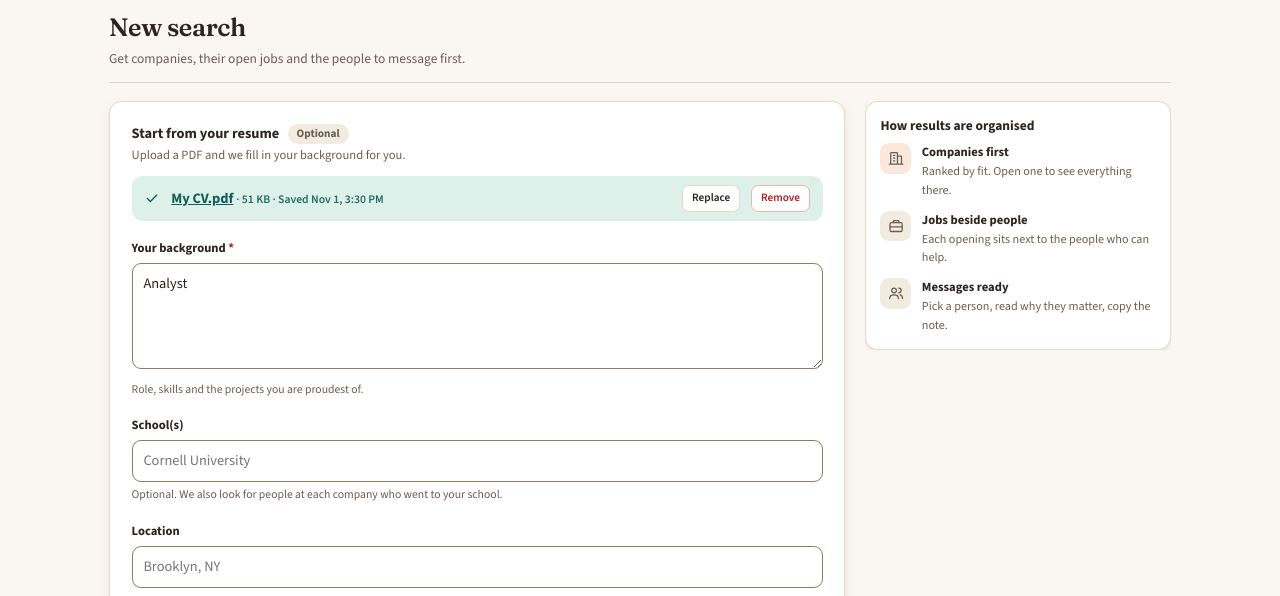
Test case: saved resume chip › swaps in the upload box to replace, and can go back
Click the button "Replace". click: (711, 198)
box: [682, 185, 740, 212]
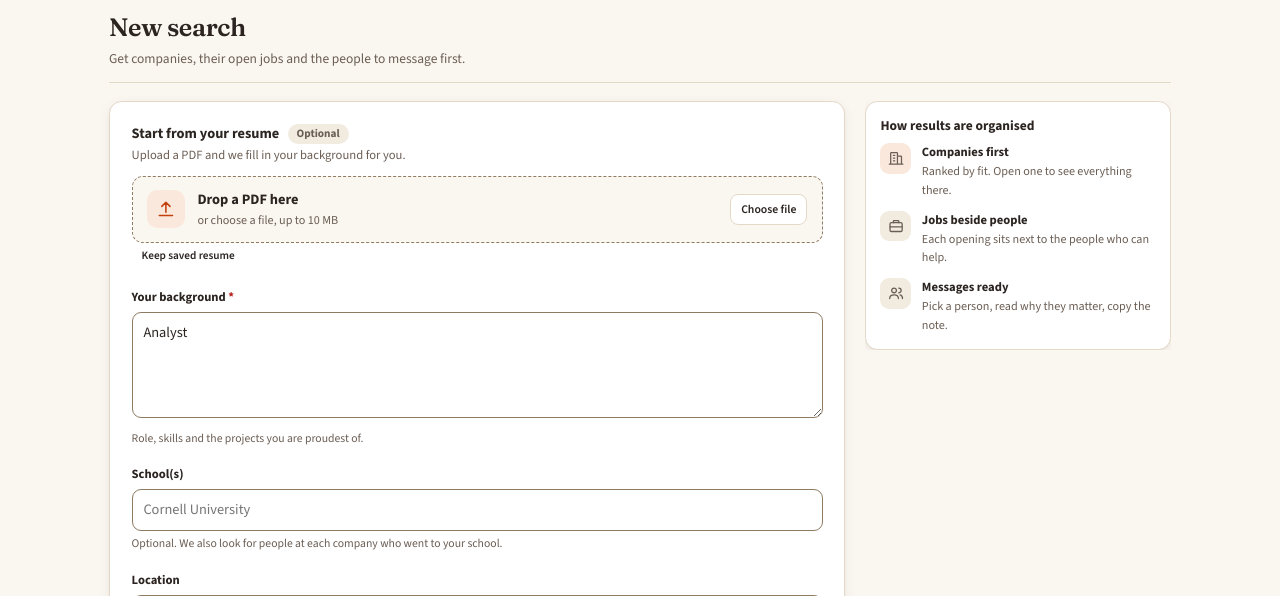
Now the link "My CV.pdf" is gone
Click the button "Keep saved resume". click: (188, 256)
box: [132, 243, 245, 270]
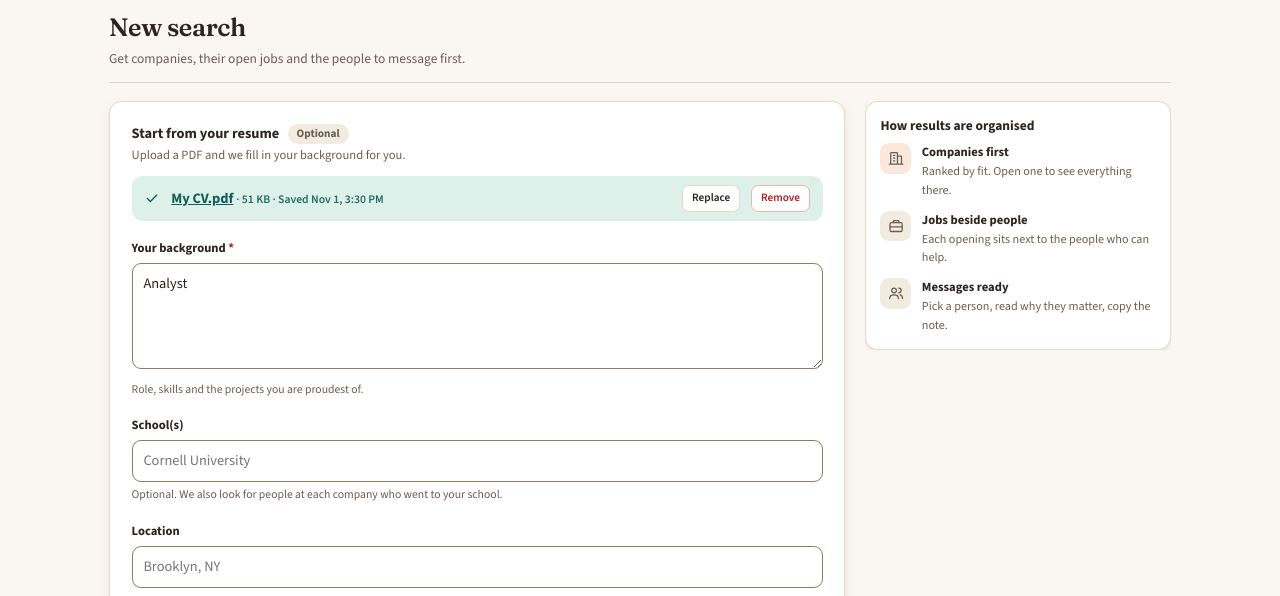
Now the link "My CV.pdf" is shown, box [171, 188, 233, 208]
